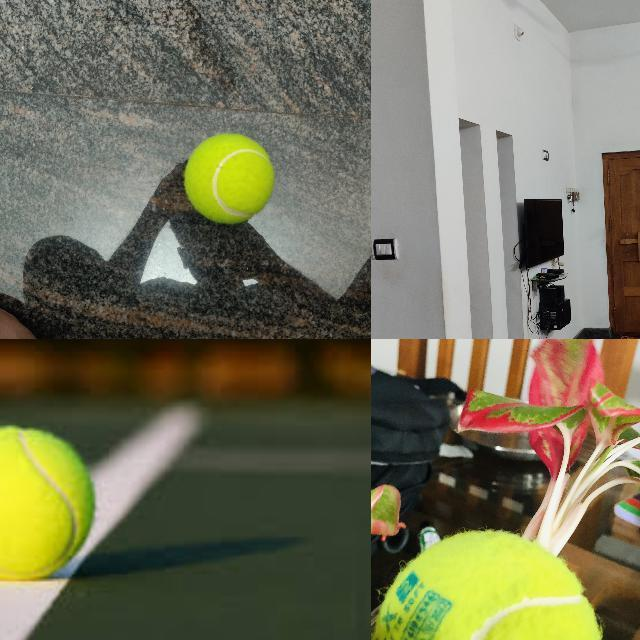tennis-ball: (373, 530, 600, 639), (0, 421, 97, 584), (184, 132, 275, 224)
